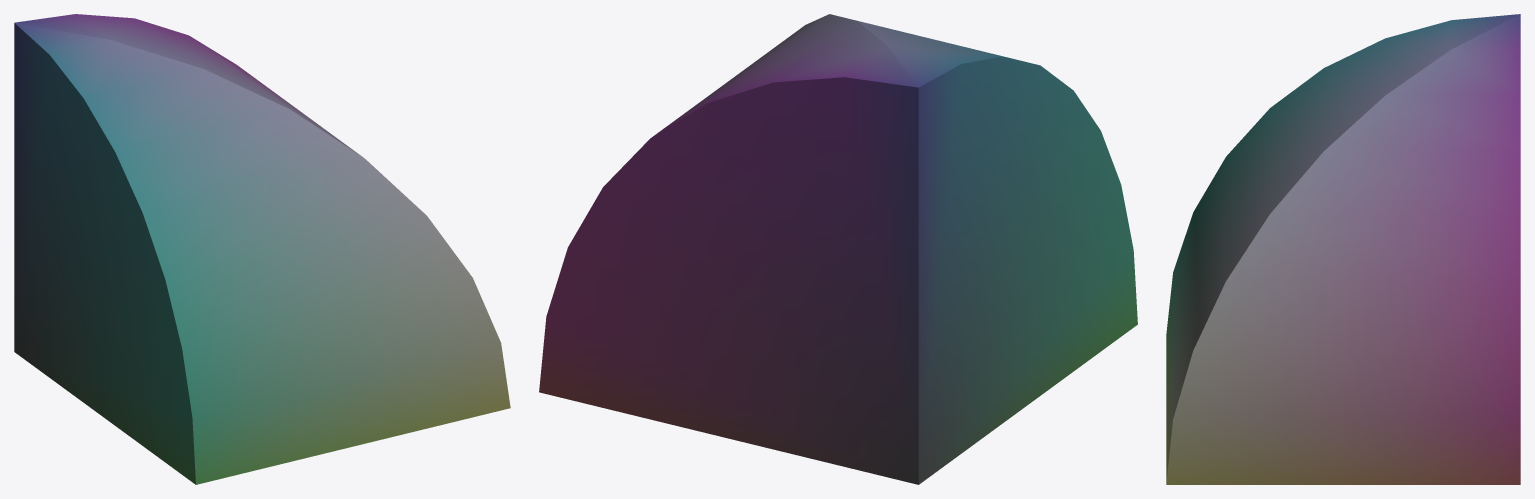
The model's file is SM_ScalablePyramidCornerRounded.gltf.
3 views of the same model, side by side, from view 1: azimuth 30°, elevation 25°; view 2: azimuth 150°, elevation 25°; view 3: azimuth 270°, elevation 25° (orthographic). The views are drawn at different scales.
Visible parts, largest first — view 1: SM_ScalablePyramidCornerRounded; view 2: SM_ScalablePyramidCornerRounded; view 3: SM_ScalablePyramidCornerRounded.
Part boxes in pixels (bbox=[...]): SM_ScalablePyramidCornerRounded: bbox=[14, 14, 510, 484]; SM_ScalablePyramidCornerRounded: bbox=[539, 14, 1137, 484]; SM_ScalablePyramidCornerRounded: bbox=[1166, 14, 1520, 484].
Bounding box in the file's own units: 0.3 × 0.3 × 0.3.
